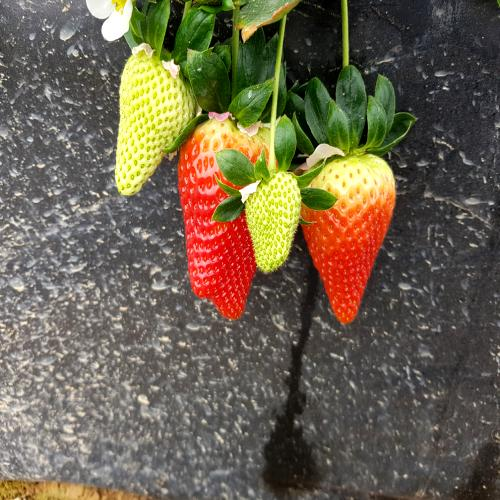unripe: (115, 37, 189, 204), (249, 167, 303, 276)
